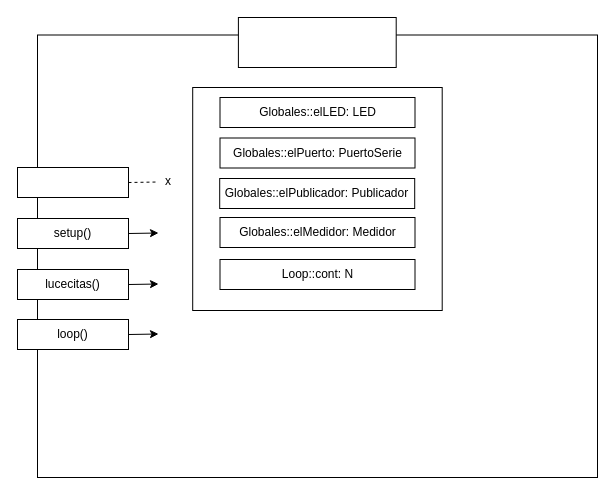
This 615x495 diagram has some shape labels left out. The centre of each missing label's shape, as x and y in pixels:
inicializarPlaquita(): (x=72, y=182)
MandarBeacon_Arduino: (x=316, y=42)
